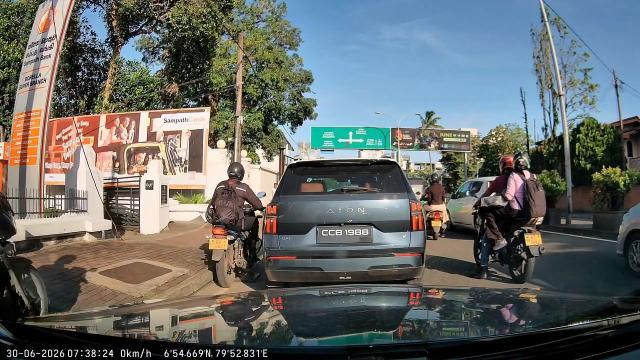illegal overtaking: (209, 157, 268, 287)
number plate: (203, 237, 232, 253)
